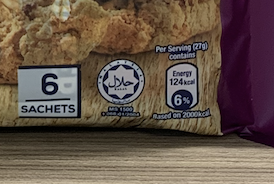halal: (103, 67, 137, 96)
